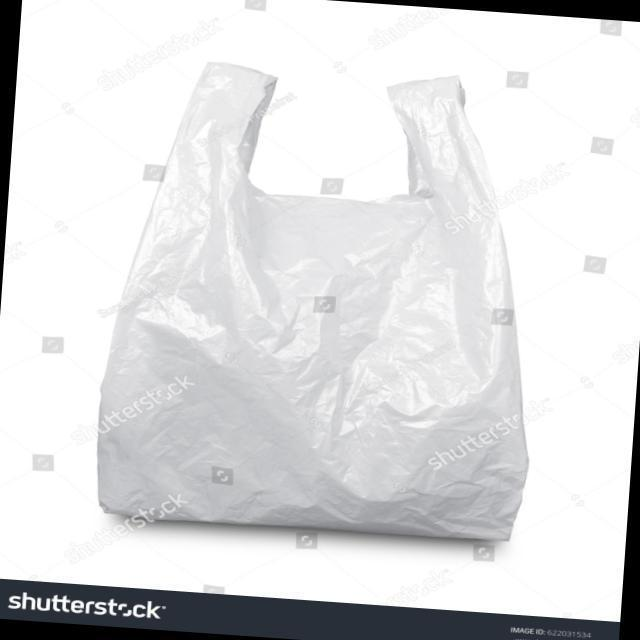Plastic_Bag: (91, 49, 555, 546)
